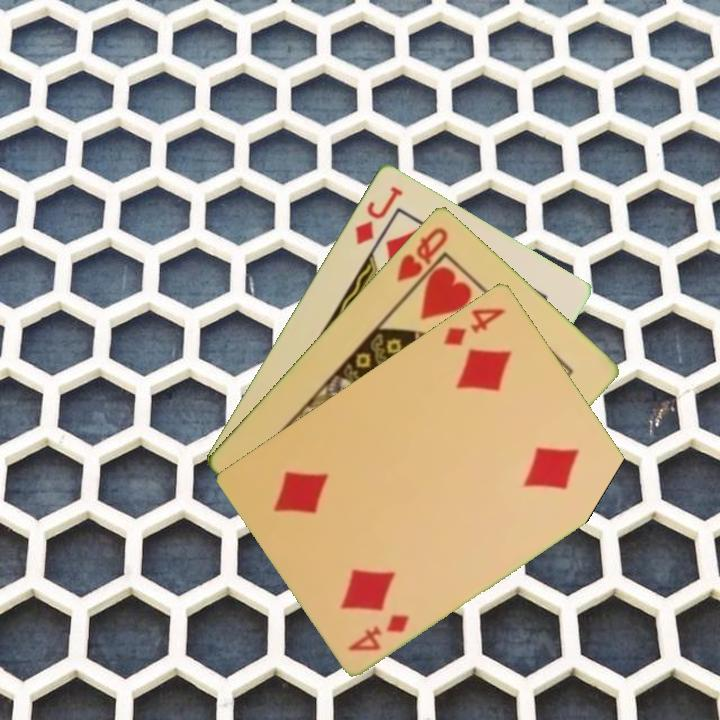4d: (439, 303, 509, 348), (344, 610, 413, 654)
Jd: (351, 182, 406, 247)
Qh: (393, 223, 451, 284)
